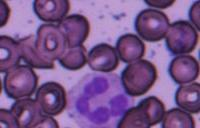N: (66, 70, 135, 128)
